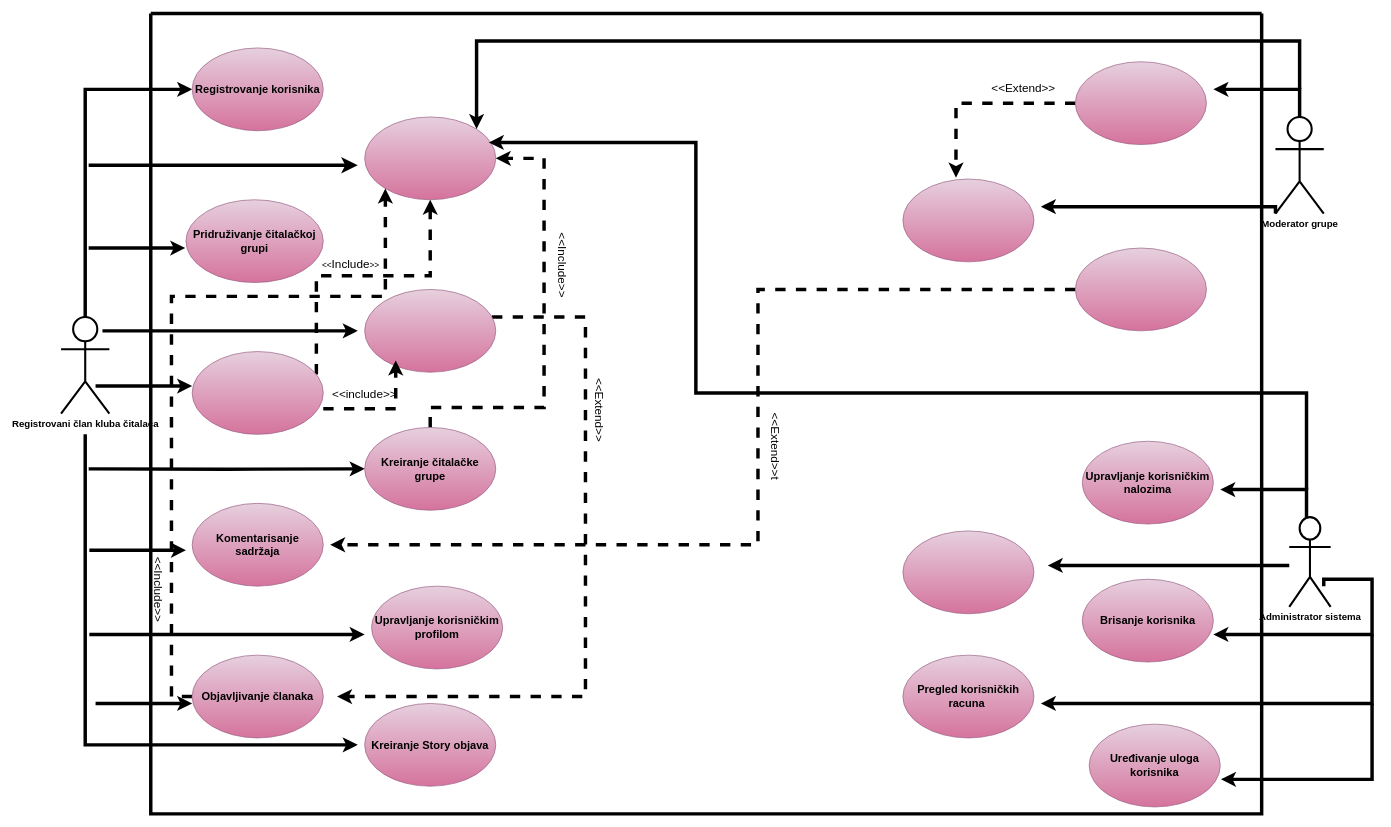
Image size: 1391x827. Some labels were removed from this diagram. The shapes that lost their labels are listed below. From the top down, each one's centre as x and y in pixels, then its label:
At point (1140, 103): "Uređivanje čitalačke grupe".
At point (430, 158): "Prijavljivanje korisnika".
At point (968, 220): "Uklanjanje korisnika iz grupe".
At point (1140, 289): "Brisanje neprimjerenopg sadržaja".
At point (430, 330): "Primanje notifikacija".
At point (257, 392): "Dijeljenje PDF sadržaja".
At point (968, 572): "Slanje obavijesti korisnicima".
